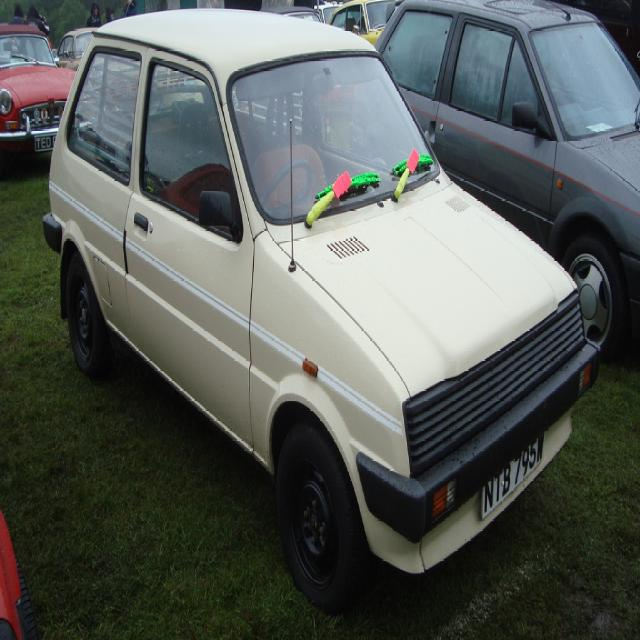car: (41, 8, 598, 620)
